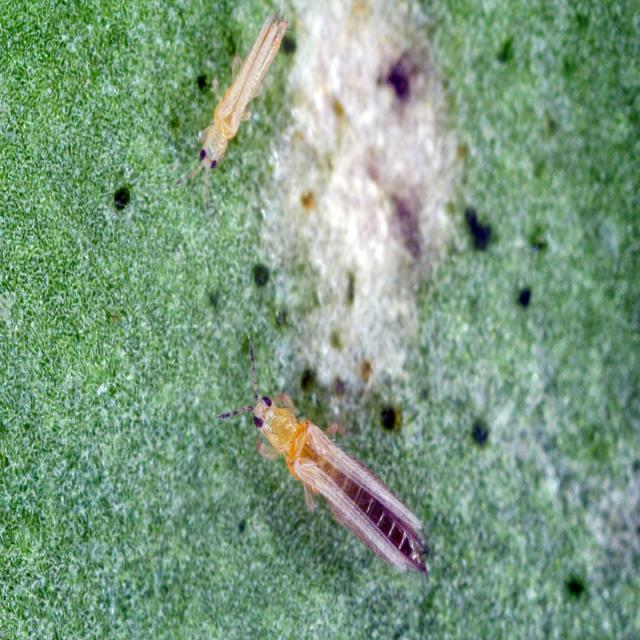Thrip-Adult-: (207, 326, 455, 600), (188, 5, 298, 186)
